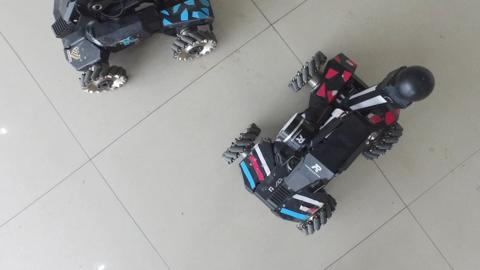chariot: (220, 49, 436, 237), (48, 1, 219, 97)
